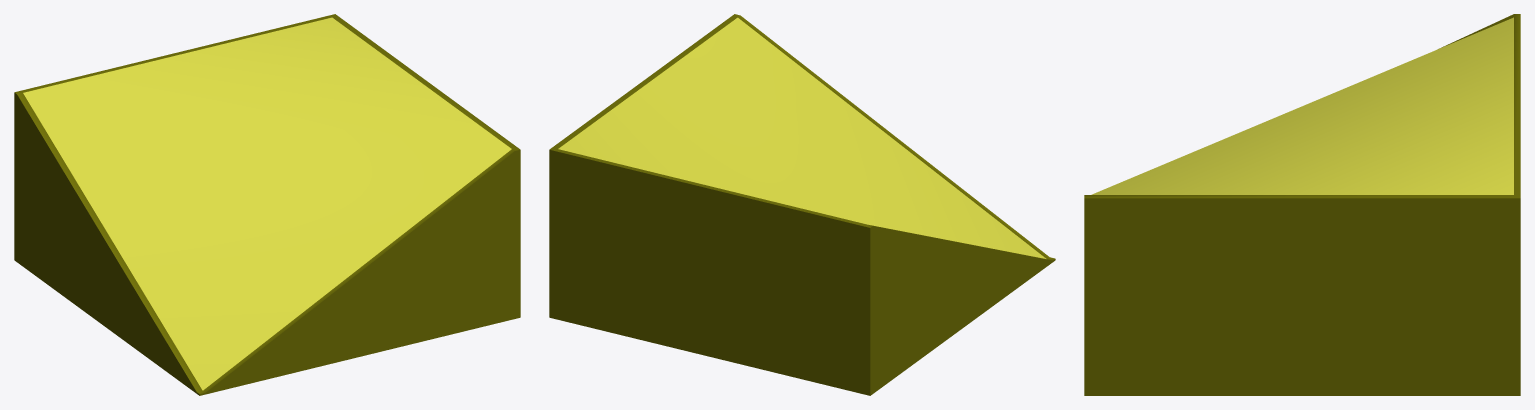
File: Casilla 18.fbx
The picture shows the model from 3 angles, left to right: view 1: azimuth 30°, elevation 25°; view 2: azimuth 150°, elevation 25°; view 3: azimuth 270°, elevation 25°; orthographic projection. The views are drawn at different scales.
Parts seen in each view (by area): view 1: pCube4; view 2: pCube4; view 3: pCube4.
Part boxes in pixels (box(x1,y1,x2,y2)): pCube4: box(14, 14, 520, 395); pCube4: box(549, 14, 1055, 395); pCube4: box(1084, 14, 1520, 395).
Bounding box in the file's own units: 200 × 100 × 200.
